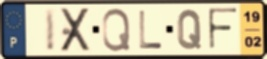F: (206, 7, 240, 53)
I: (43, 8, 57, 54)
L: (138, 9, 164, 50)
Q: (101, 7, 132, 53), (176, 8, 203, 51)
X: (59, 7, 93, 54)
